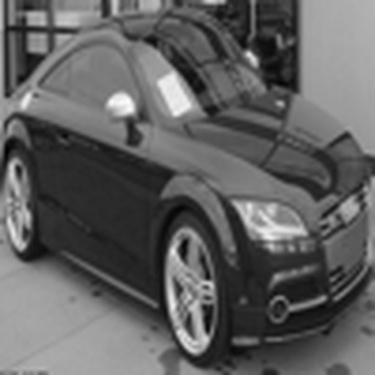car: (1, 2, 373, 369)
